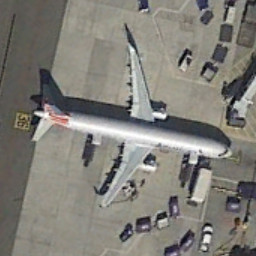Airplane: (24, 34, 239, 220)
